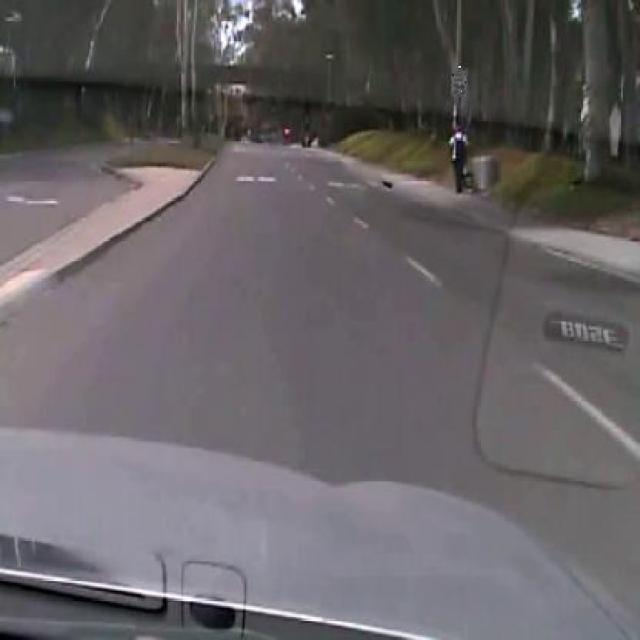speedLimit25: (451, 64, 469, 98)
